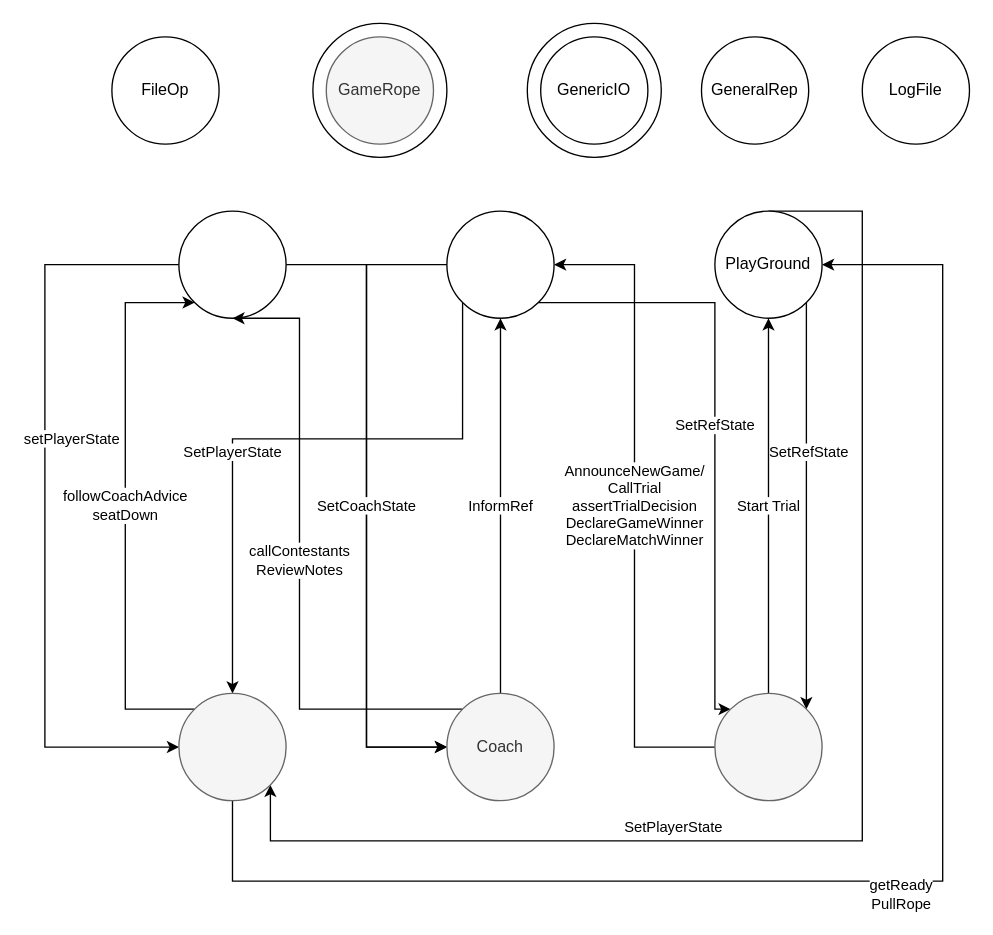
The diagram is 993 pixels wide and 935 high, and some of its shapes have lost their labels. Each missing label, with the centre of its shape:
Bench: pixel 232 264
Player: pixel 232 746
Ref: pixel 768 746
Ref_Site: pixel 500 264
